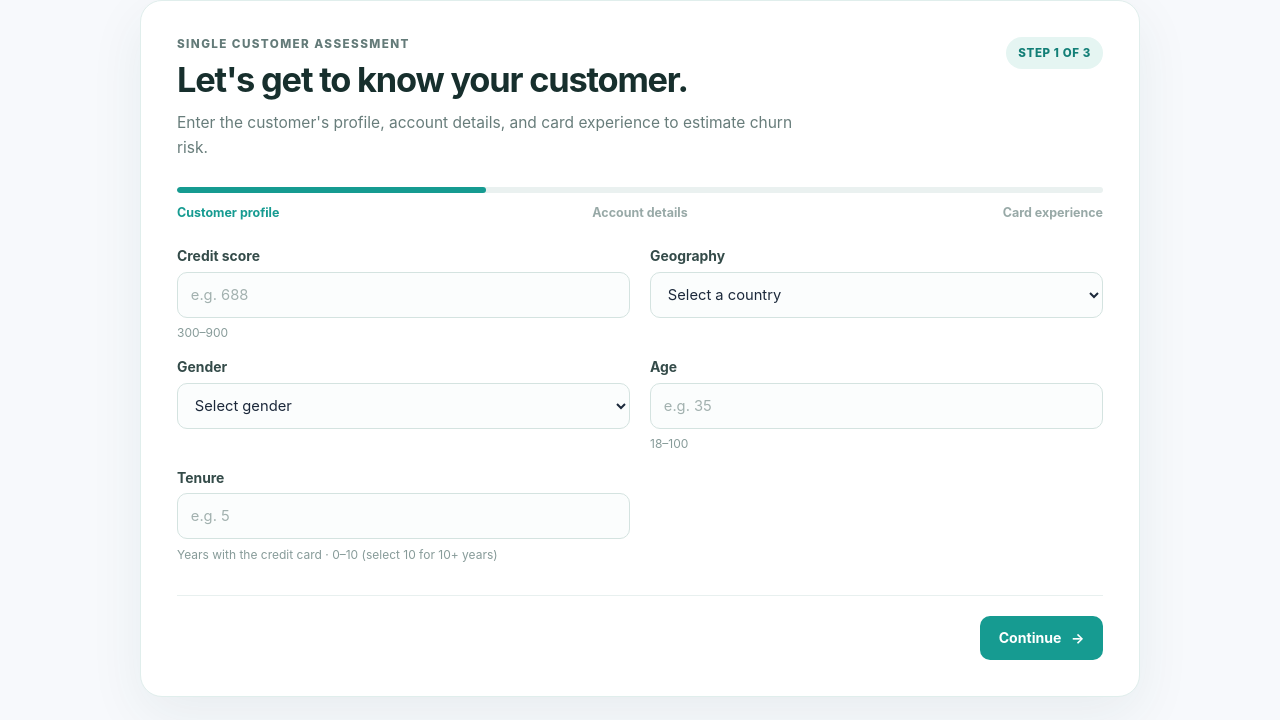
it: CustomerQuiz › validates Age (35.5) and stays on the first step
In the number field labelled "Credit score": (404, 295) [177, 272, 630, 318], type "688"
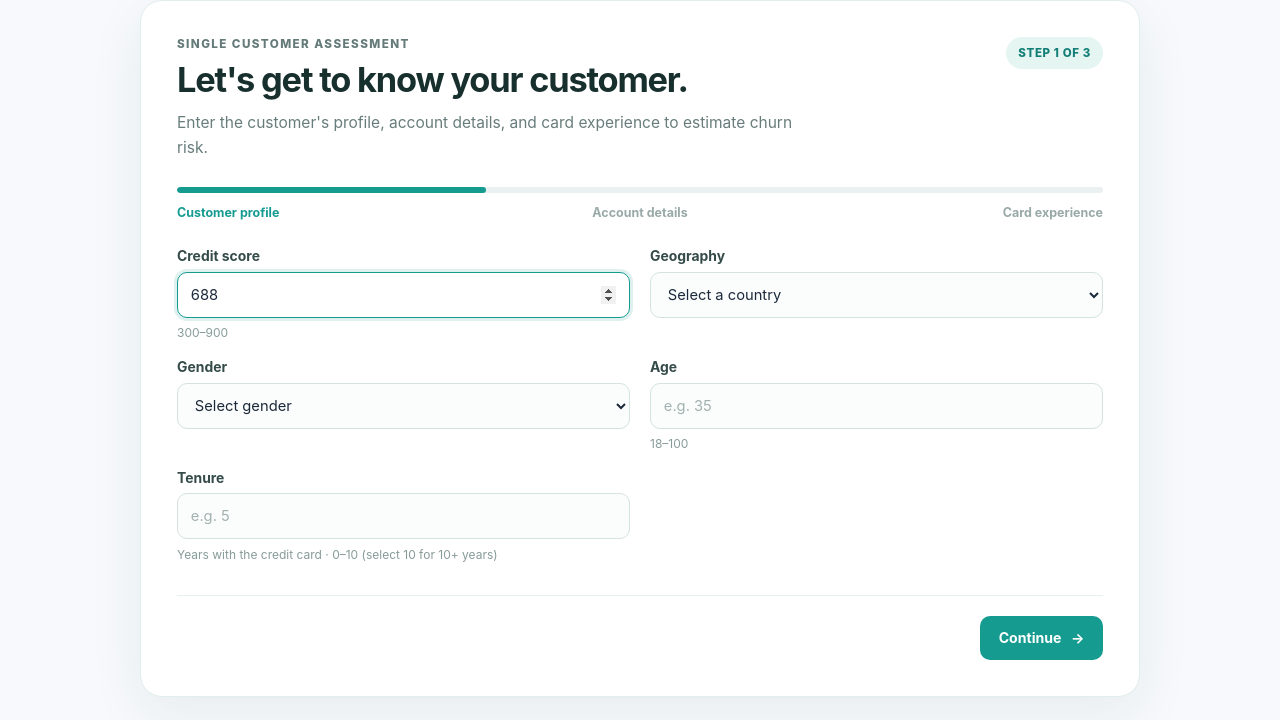
Select "México" in the dropdown labelled "Geography": (876, 295) [650, 272, 1103, 318]
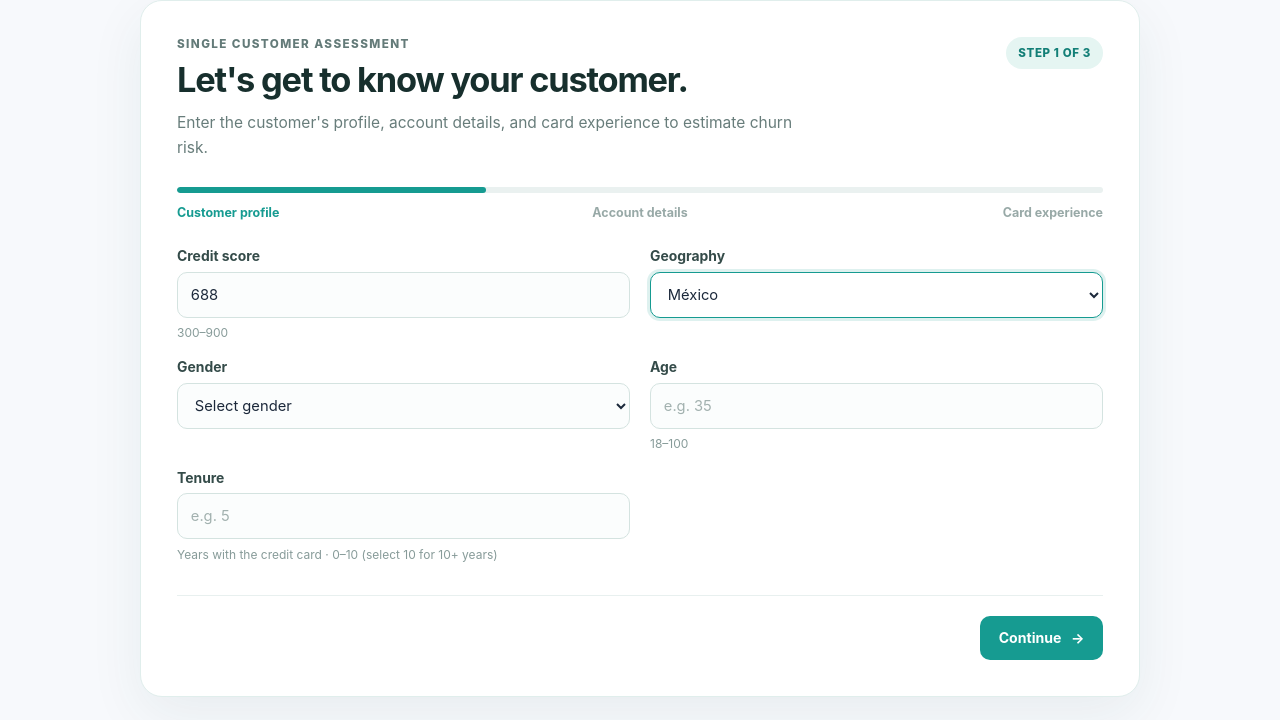
Select "Female" in the dropdown labelled "Gender": (404, 406) [177, 382, 630, 428]
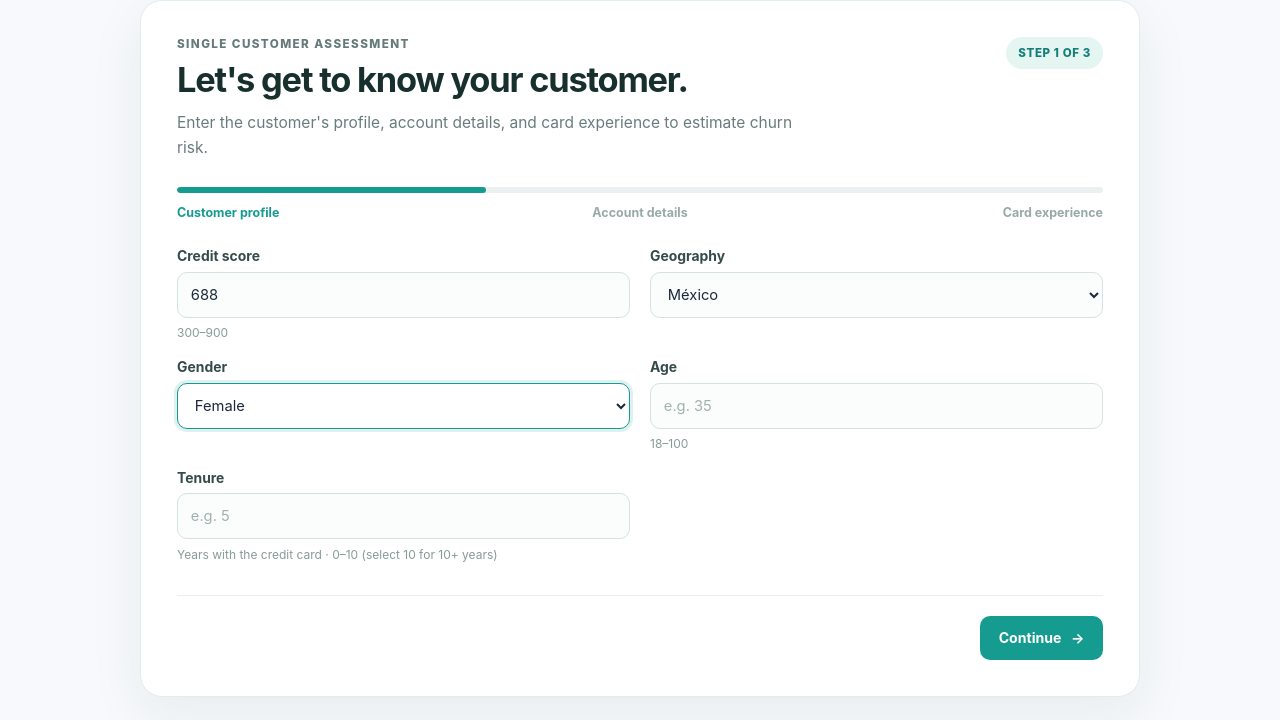
In the number field labelled "Age": (876, 406) [650, 382, 1103, 428], type "35.5"
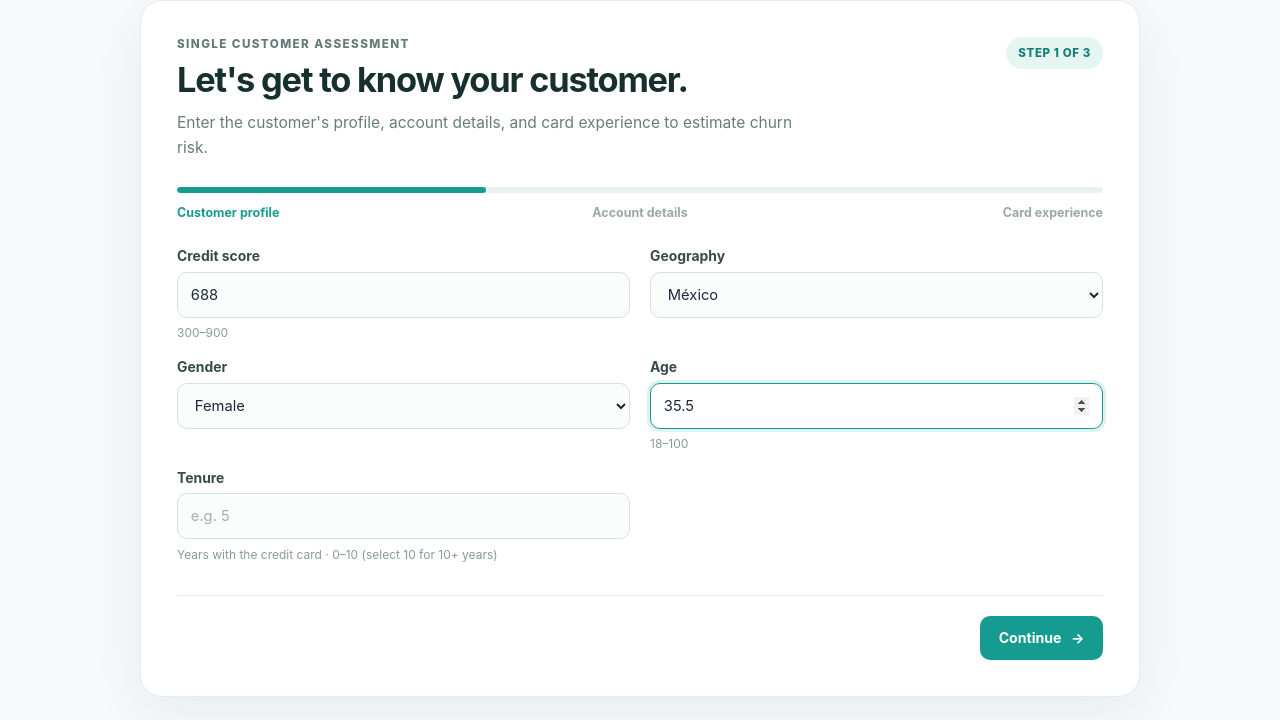
In the number field labelled "Tenure": (404, 516) [177, 494, 630, 540], type "5"
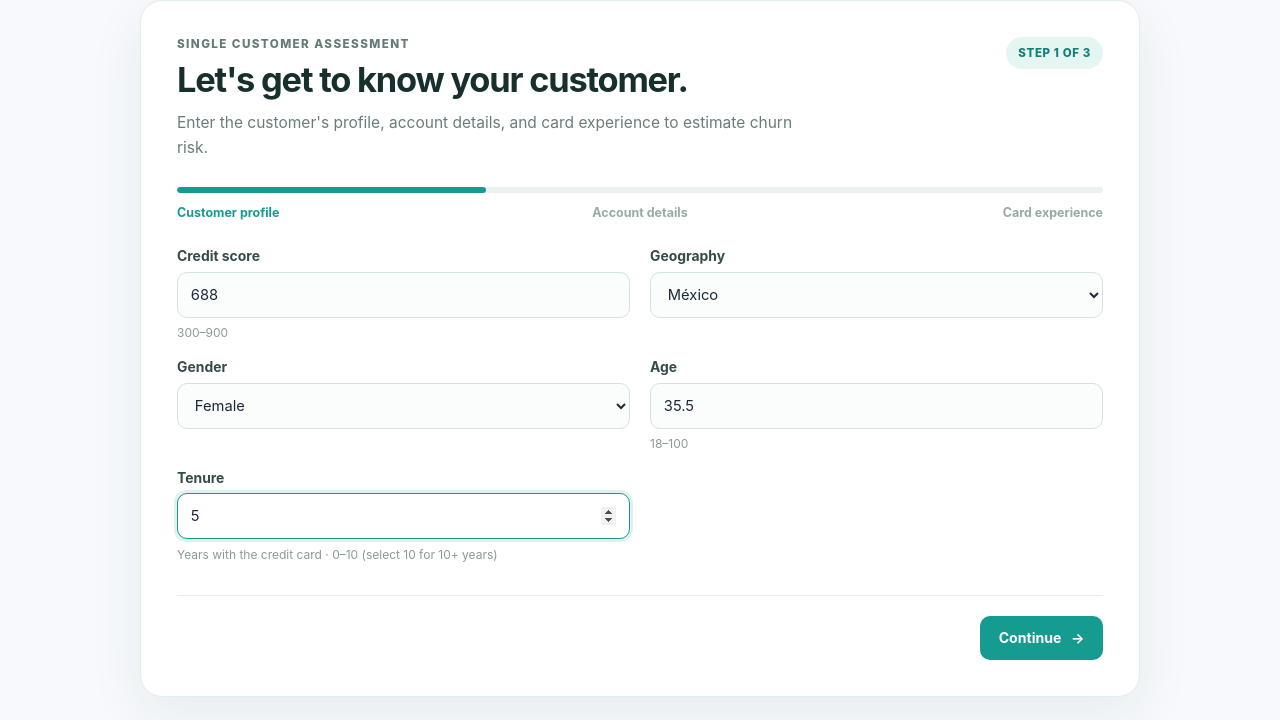
Click the button "Continue →": (1042, 638) [980, 616, 1103, 660]
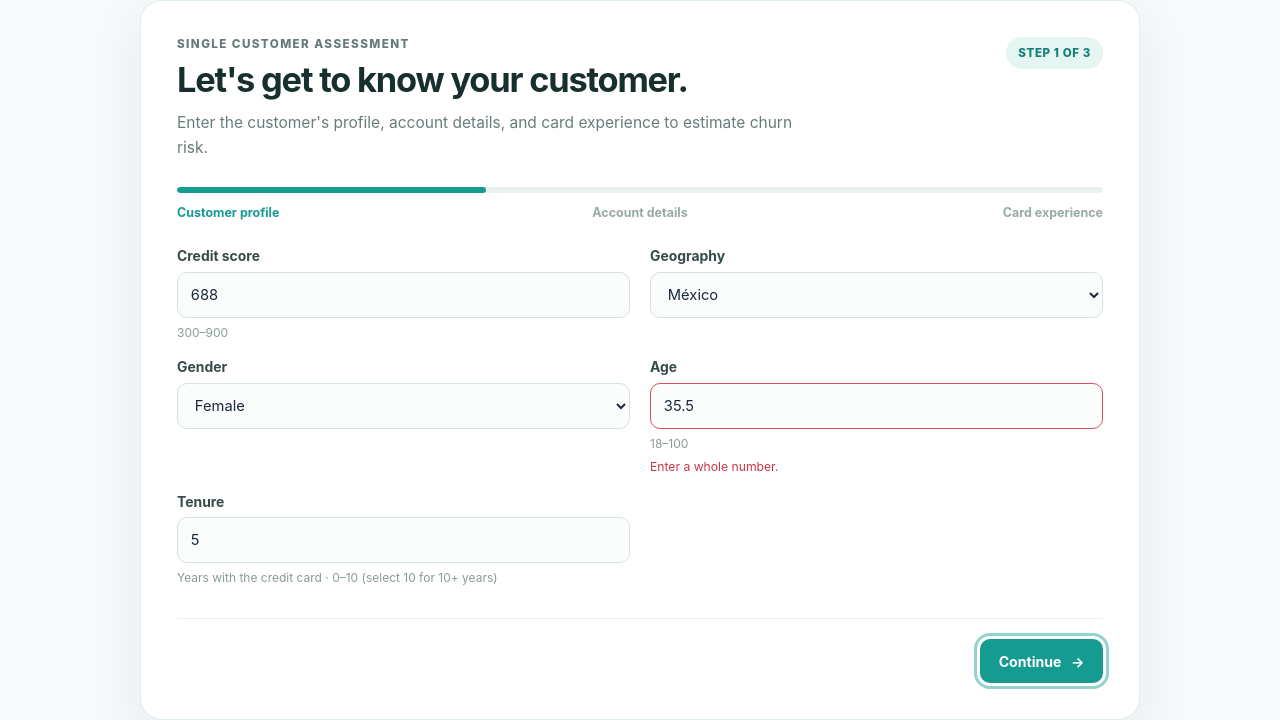
Expected: the text "STEP 1 OF 3" is shown, [1006, 37, 1103, 69]
Expected: the text "Enter a whole number." is shown, [650, 459, 778, 474]
